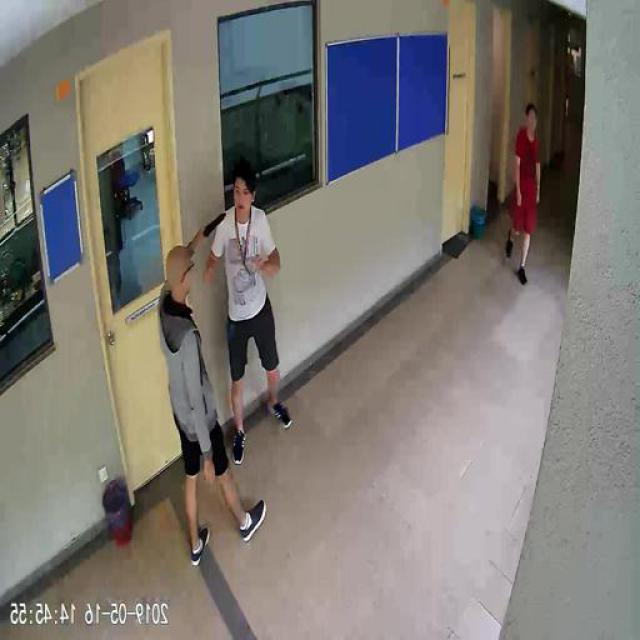Gun: (200, 210, 228, 239)
